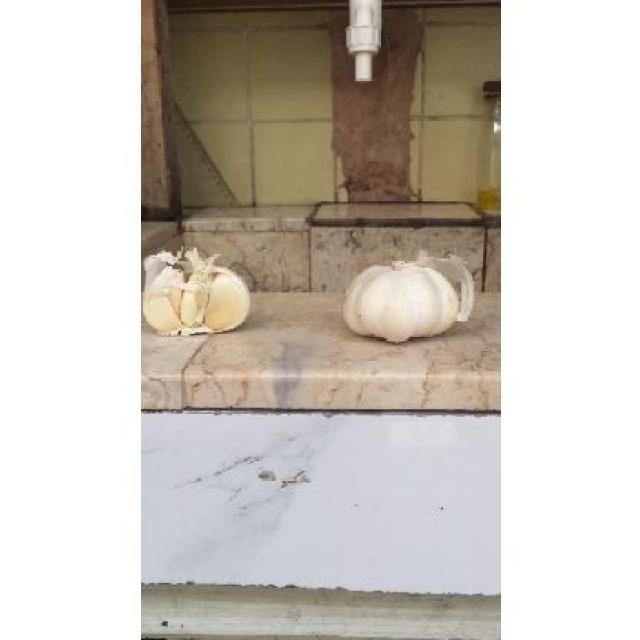garlic: (342, 256, 475, 342), (142, 249, 251, 335)
